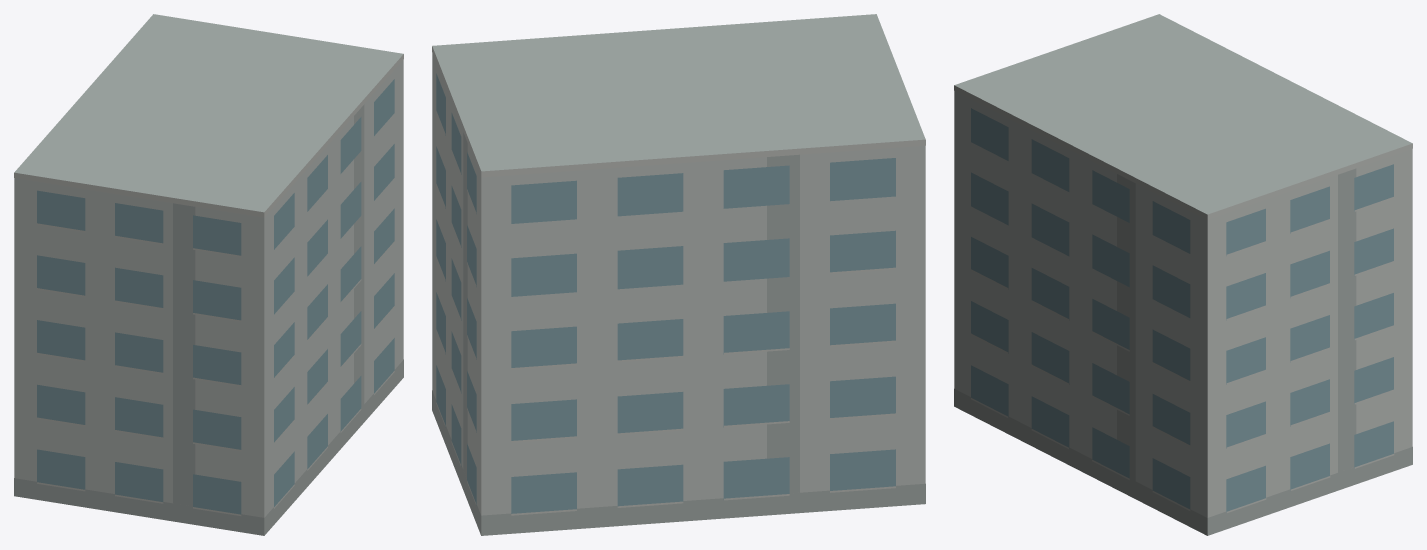
File: survey-upis-32839561.glb
The picture shows the model from 3 angles, left to right: view 1: azimuth 30°, elevation 25°; view 2: azimuth 150°, elevation 25°; view 3: azimuth 270°, elevation 25°; orthographic projection. The views are drawn at different scales.
Parts seen in each view (by area): view 1: survey-upis-32839561.tmp; view 2: survey-upis-32839561.tmp; view 3: survey-upis-32839561.tmp.
Part boxes in pixels (x1,y1,x2,y2): survey-upis-32839561.tmp: (14,14,403,535); survey-upis-32839561.tmp: (432,14,925,535); survey-upis-32839561.tmp: (954,14,1412,535).
Size of the model in its own units: 19.35 by 14.45 by 18.7.
